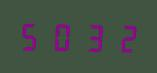five: (18, 18, 47, 52)
three: (78, 20, 107, 53)
two: (108, 20, 137, 54)
zero: (48, 19, 77, 52)
